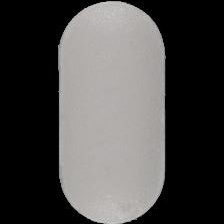68382-142: (0, 0, 224, 224)
